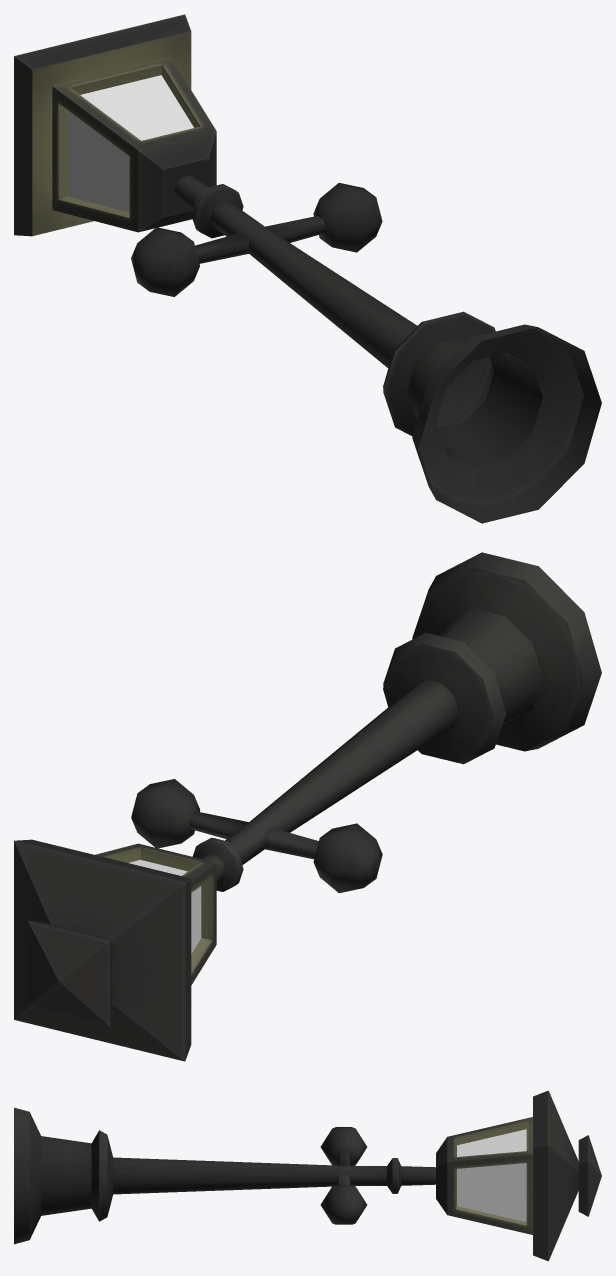
File: StreetLamp.fbx
3 views of the same model, one above another, from view 1: azimuth 30°, elevation 25°; view 2: azimuth 150°, elevation 25°; view 3: azimuth 270°, elevation 25° (orthographic). The views are drawn at different scales.
Visible parts, largest first — view 1: StreetLampNotLitUp, StreetLampLitUp; view 2: StreetLampNotLitUp, StreetLampLitUp; view 3: StreetLampNotLitUp, StreetLampLitUp.
Part boxes in pixels (x1,y1,x2,y2): StreetLampNotLitUp: (14, 14, 601, 523); StreetLampLitUp: (67, 75, 193, 212); StreetLampNotLitUp: (14, 552, 601, 1061); StreetLampLitUp: (129, 860, 201, 953); StreetLampNotLitUp: (14, 1090, 601, 1261); StreetLampLitUp: (457, 1129, 526, 1222).
Bounding box in the file's own units: 74.82 × 53.53 × 240.
